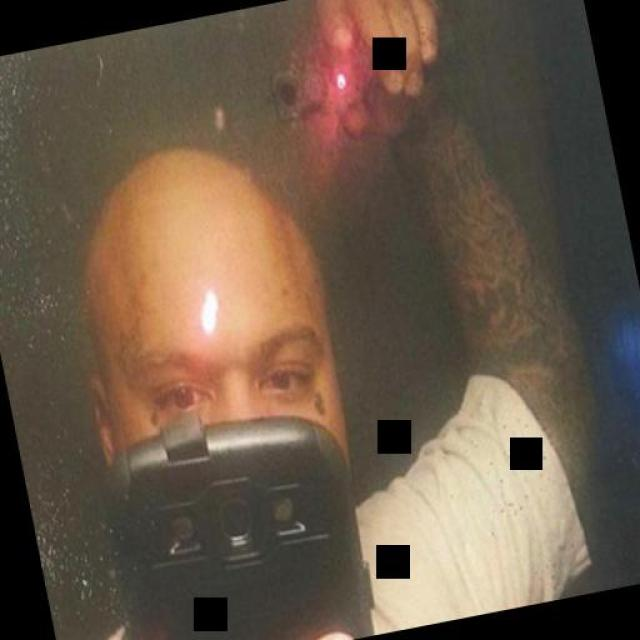gun: (254, 10, 446, 128)
